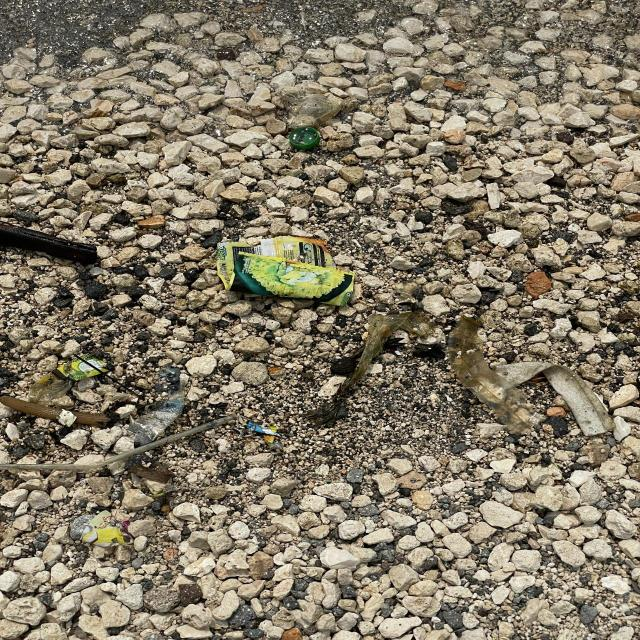plastic_waste: (216, 237, 357, 307), (68, 509, 130, 545), (57, 356, 110, 380), (288, 129, 323, 152)
